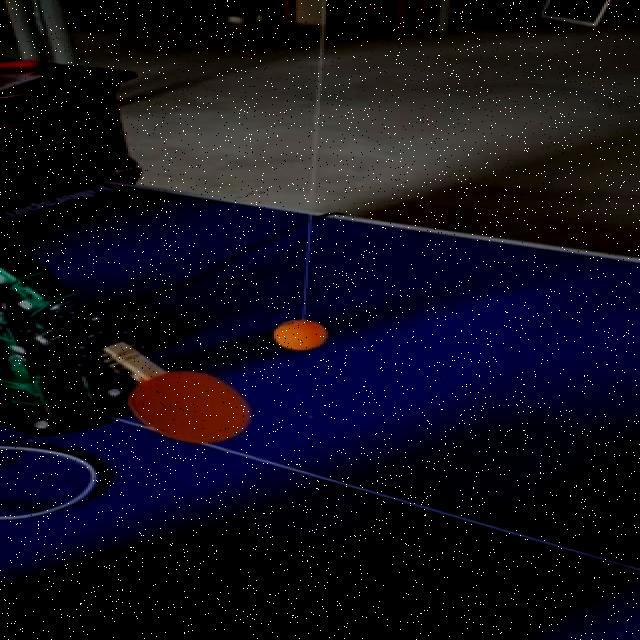ping-pong-ball: (272, 318, 328, 350)
